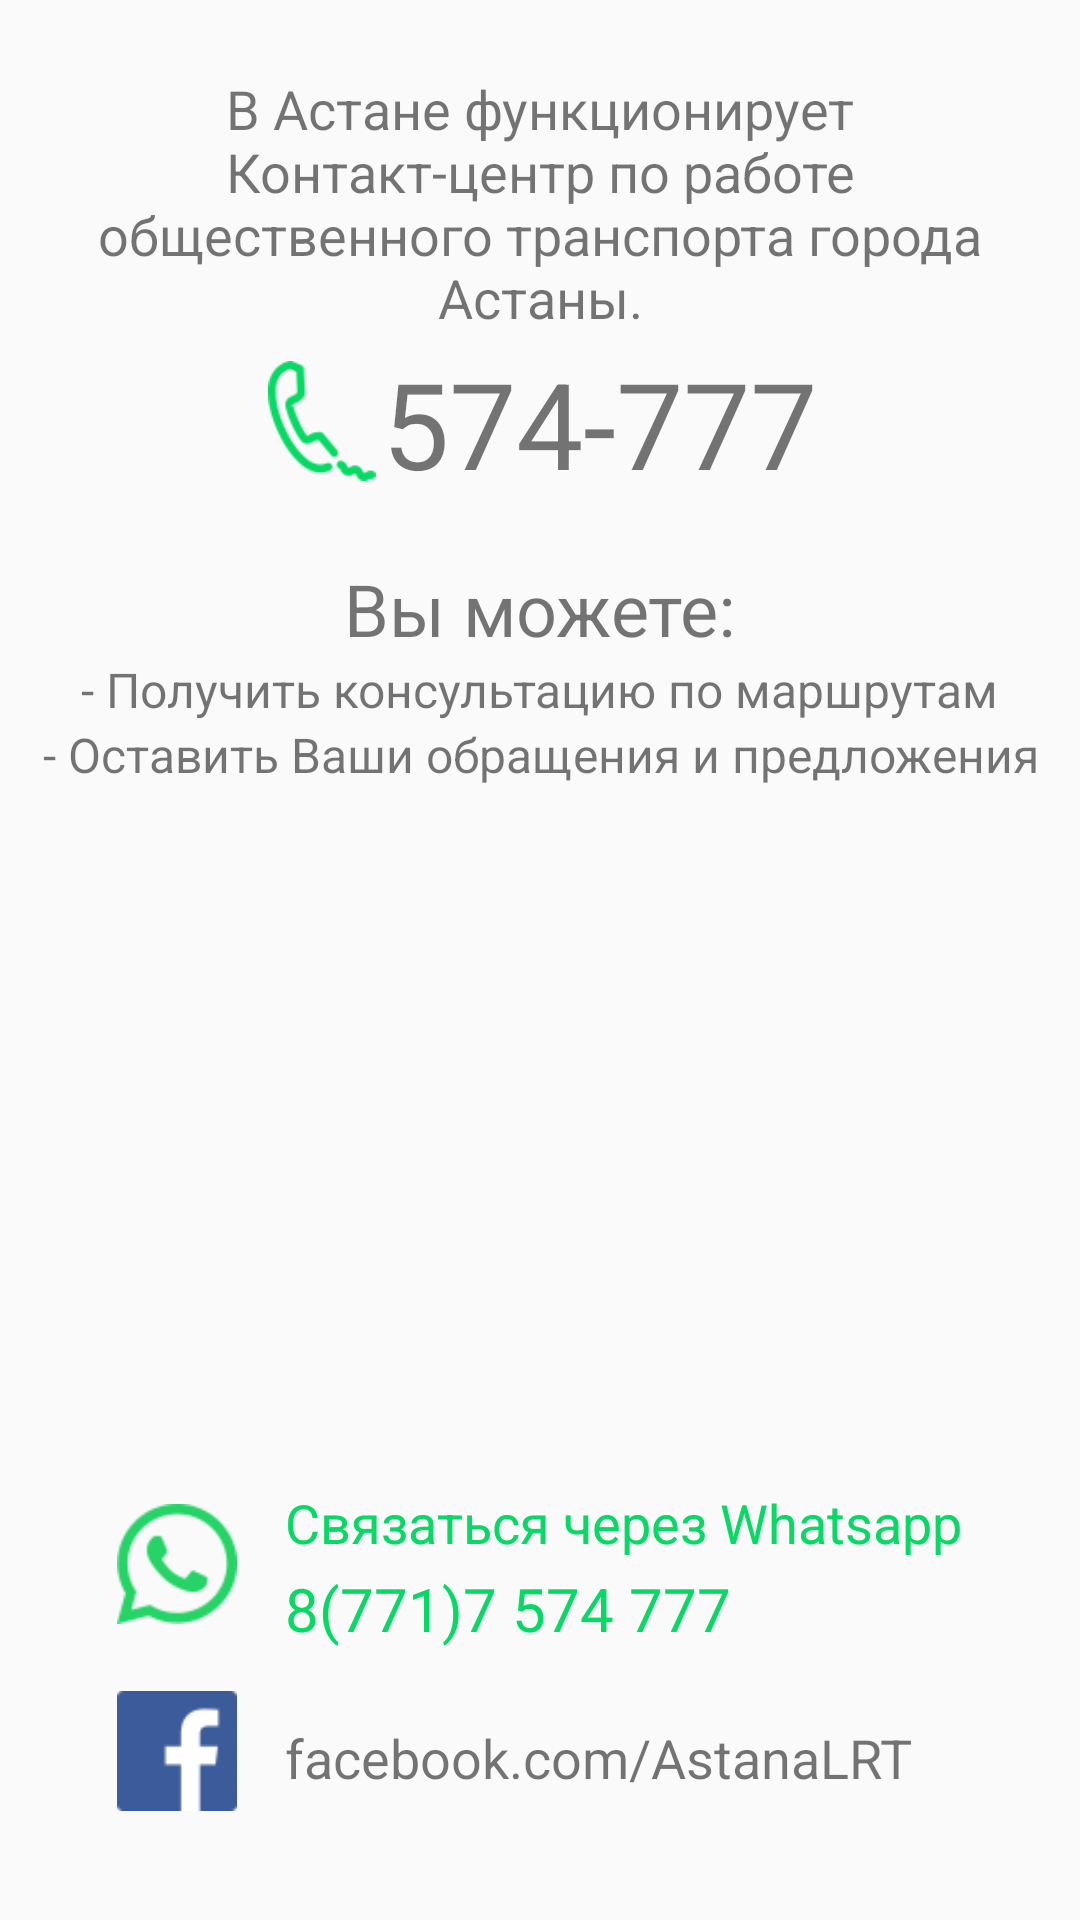

Icon bounding boxes for this 1080 × 1920 phone screenshot, format (x1, y1, x2, y2):
phone: (268, 361, 376, 481)
